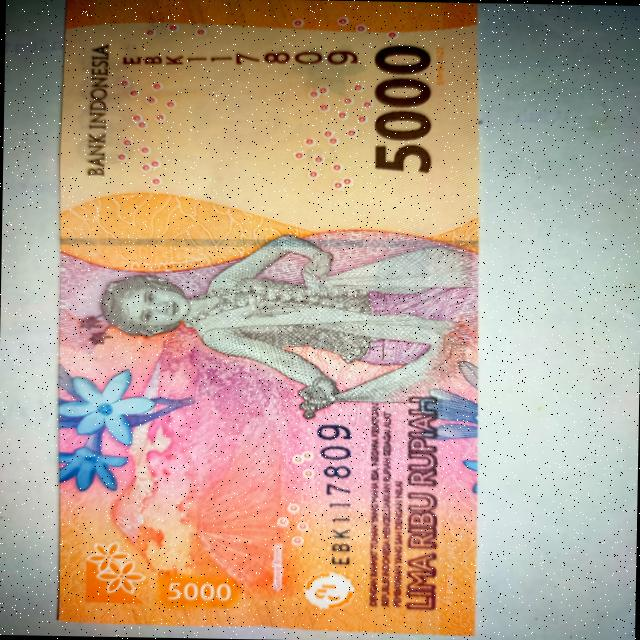5K: (27, 0, 499, 640)
